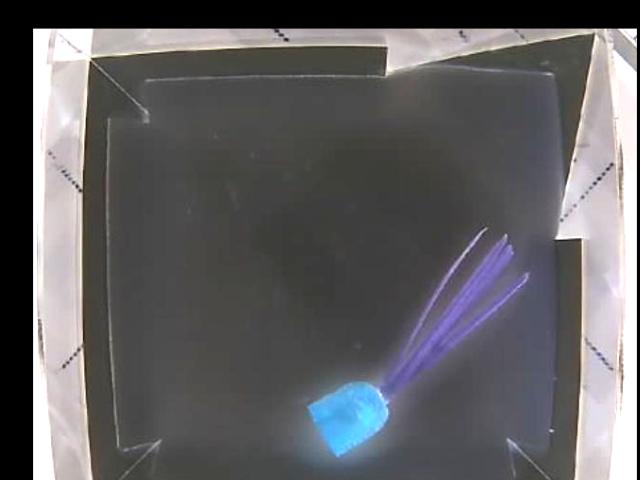Carrot: (307, 356, 426, 455)
